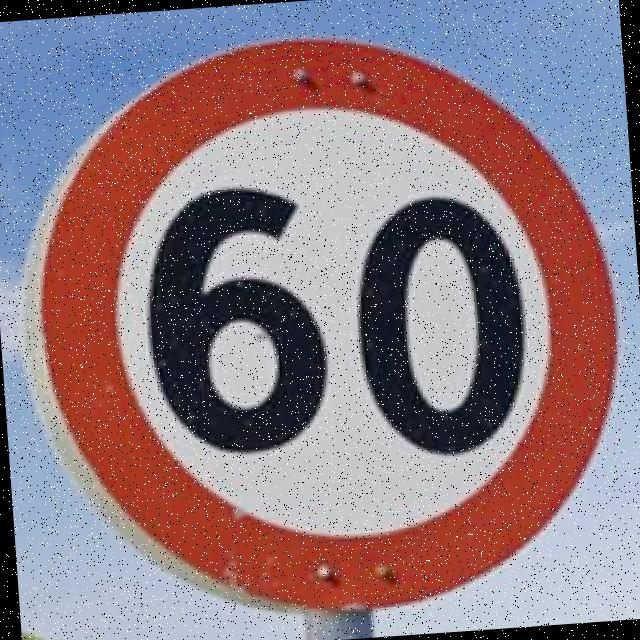Ograniczenie predkosci do 60: (2, 14, 636, 622)
